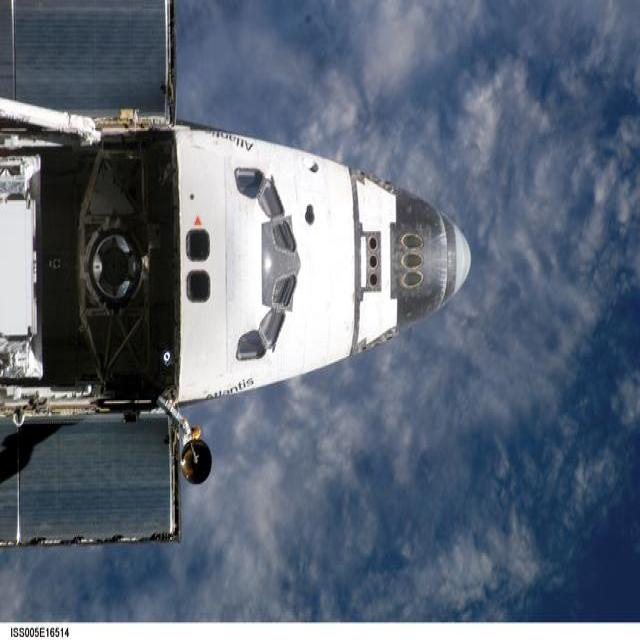medium_debris: (2, 74, 470, 433)
